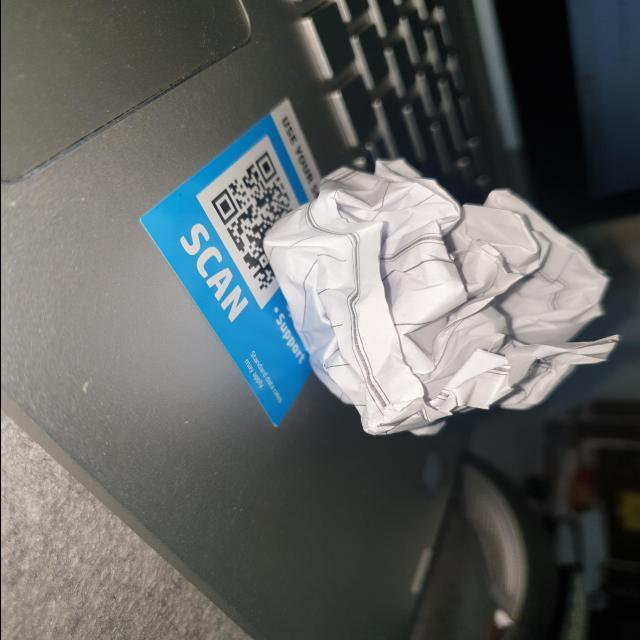kertas: (253, 162, 640, 451)
